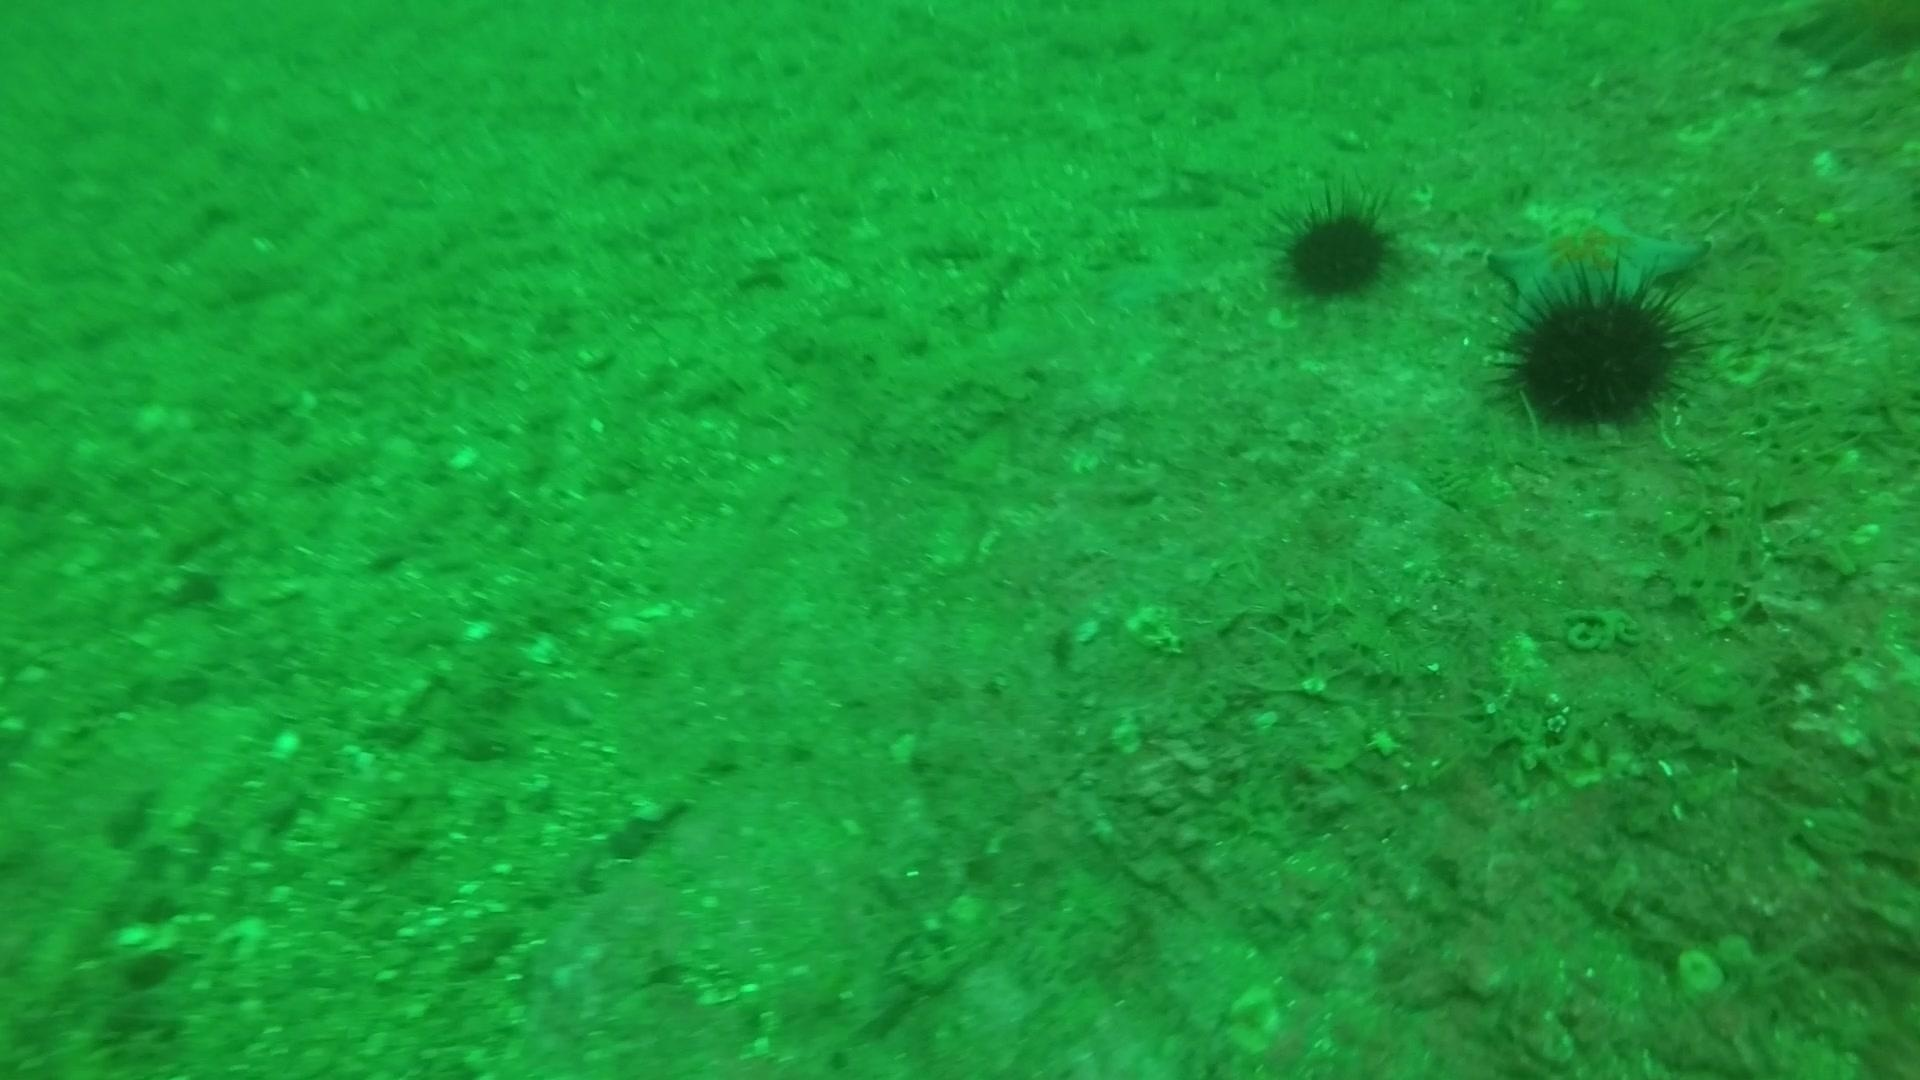echinus: (1485, 258, 1713, 440), (1267, 186, 1404, 309)
starfish: (1480, 200, 1714, 323)
